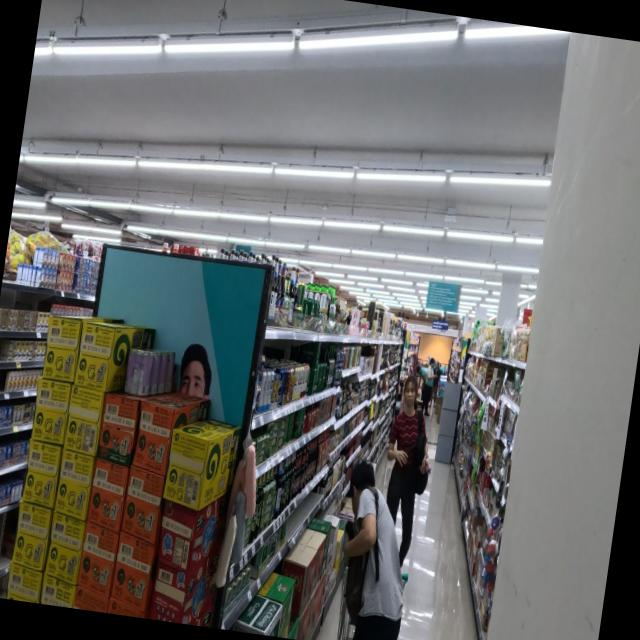shoplifting: (326, 458, 420, 640)
